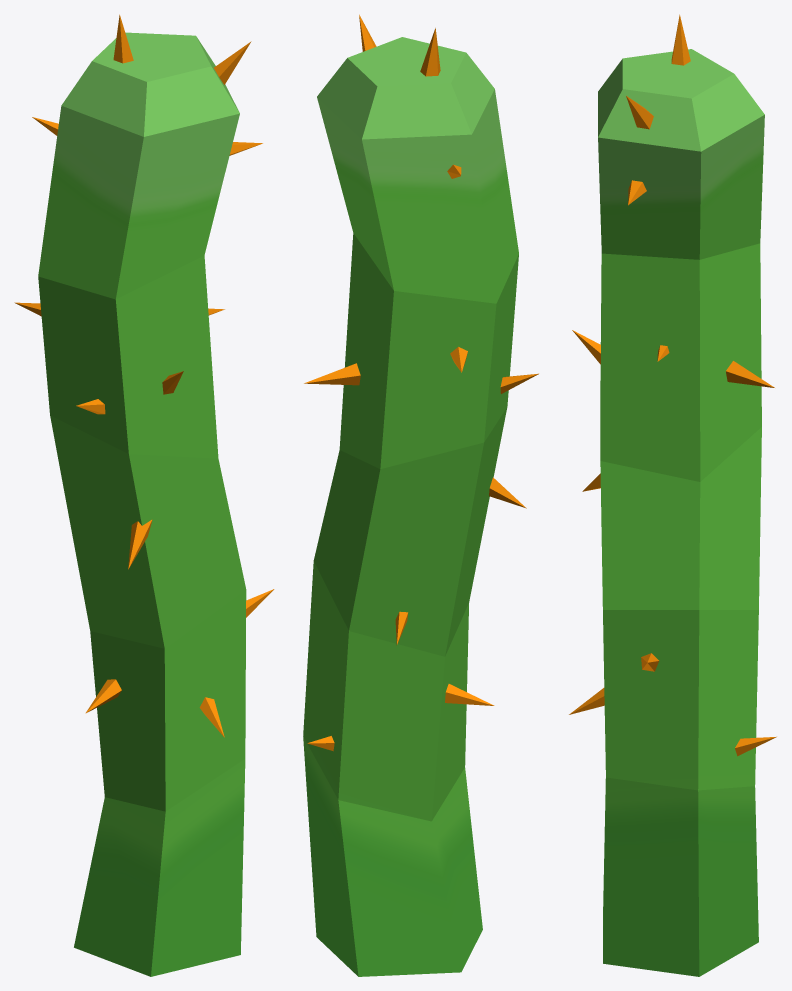
Rendered from cactus2.fbx.
3 views of the same model, side by side, from view 1: azimuth 30°, elevation 25°; view 2: azimuth 150°, elevation 25°; view 3: azimuth 270°, elevation 25° (orthographic). The views are drawn at different scales.
Parts seen in each view (by area): view 1: Cylinder, Cone; view 2: Cylinder, Cone; view 3: Cylinder, Cone.
Part boxes in pixels (x1=…): Cylinder: x1=38, y1=32, x2=246, y2=976; Cone: x1=14, y1=14, x2=274, y2=737; Cylinder: x1=303, y1=37, x2=518, y2=976; Cone: x1=304, y1=14, x2=538, y2=751; Cylinder: x1=598, y1=49, x2=764, y2=976; Cone: x1=569, y1=14, x2=776, y2=756.
Bounding box in the file's own units: 261 × 1091 × 227.
